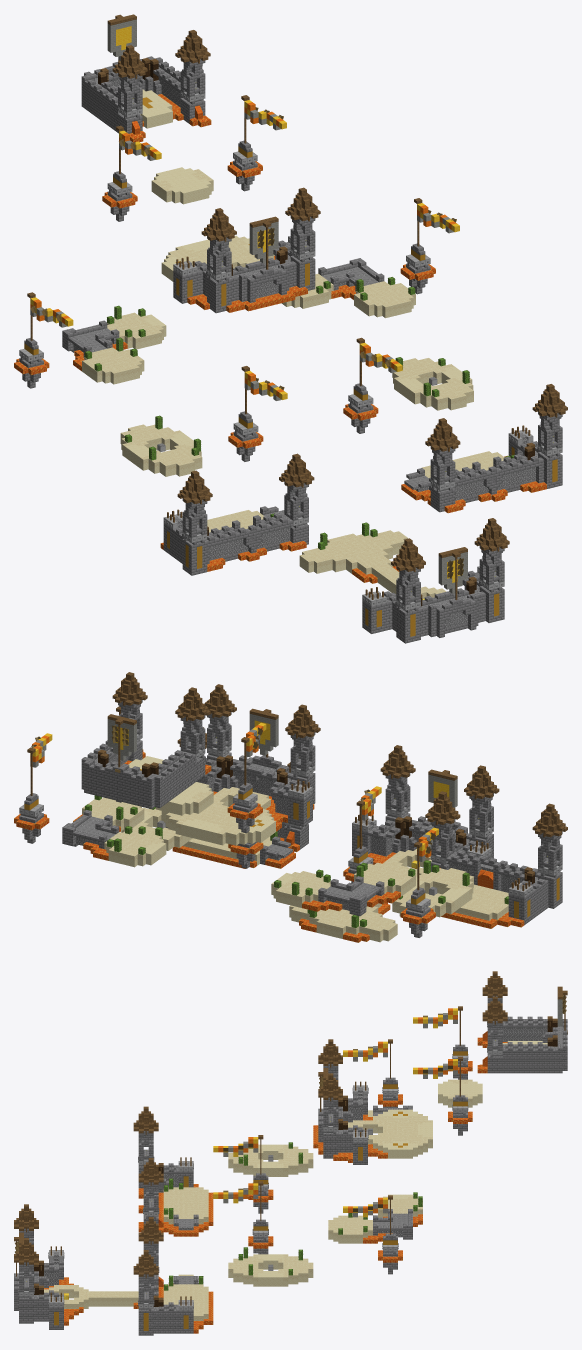
File: minecraft.obj
The picture shows the model from 3 angles, top to bottom: view 1: azimuth 30°, elevation 25°; view 2: azimuth 150°, elevation 25°; view 3: azimuth 270°, elevation 25°; orthographic projection. The views are drawn at different scales.
Size of the model in its own units: 79.85 by 70 by 111.
